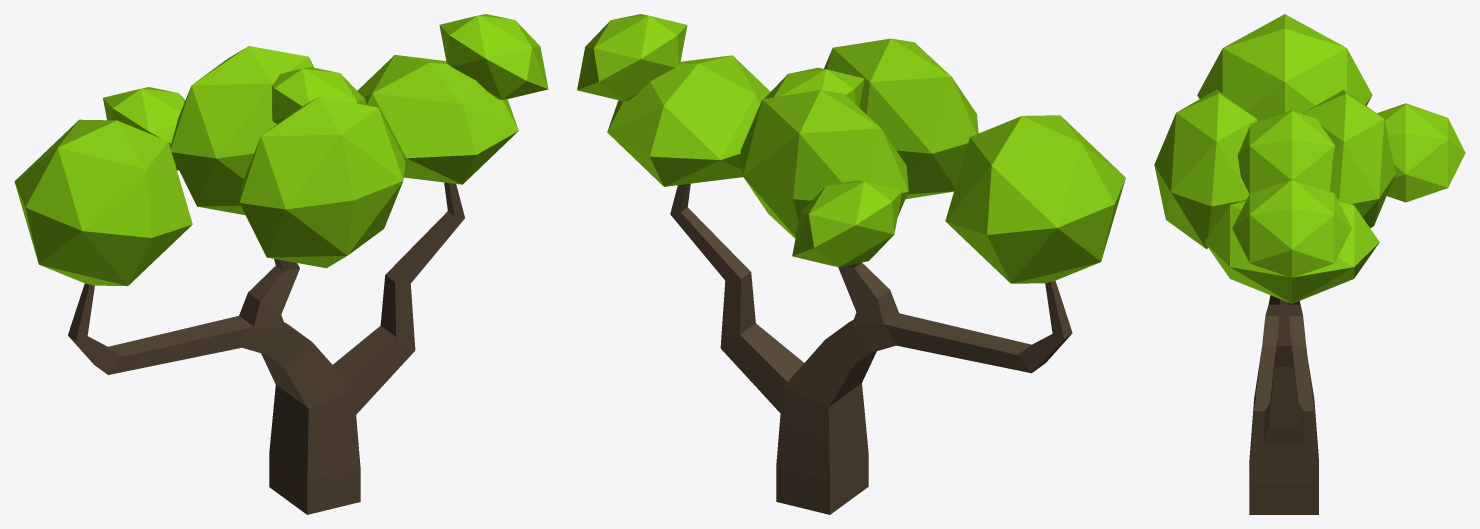
File: tree4.FBX
The picture shows the model from 3 angles, left to right: view 1: azimuth 30°, elevation 25°; view 2: azimuth 150°, elevation 25°; view 3: azimuth 270°, elevation 25°; orthographic projection. The views are drawn at different scales.
Visible parts, largest first — view 1: tree4; view 2: tree4; view 3: tree4.
Boxes of the visible parts, box(x1,y1,x2,y2) form: tree4: box(14, 14, 548, 514); tree4: box(577, 14, 1125, 514); tree4: box(1154, 14, 1465, 514).
Bounding box in the file's own units: 17.16 × 13.75 × 9.75.
